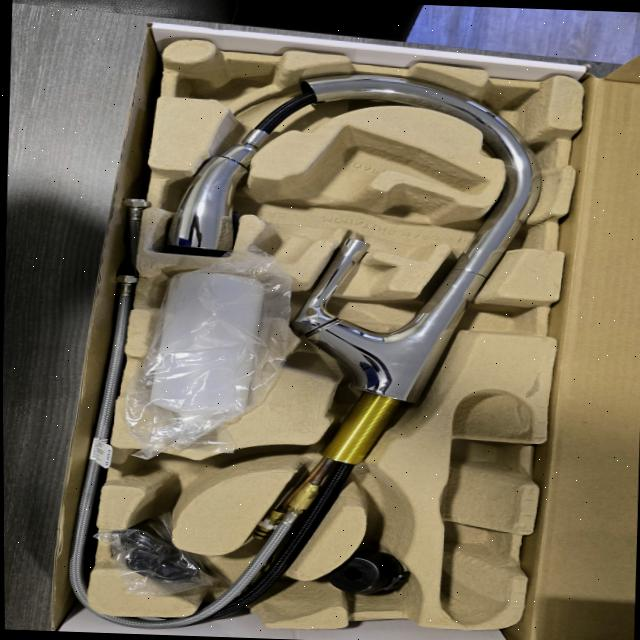1: (161, 74, 545, 623)
2m: (251, 129, 484, 262)
3: (146, 270, 267, 443)
4m: (438, 388, 533, 621)
5: (322, 552, 406, 594)
6m: (120, 447, 263, 510)
7: (90, 508, 222, 596)
